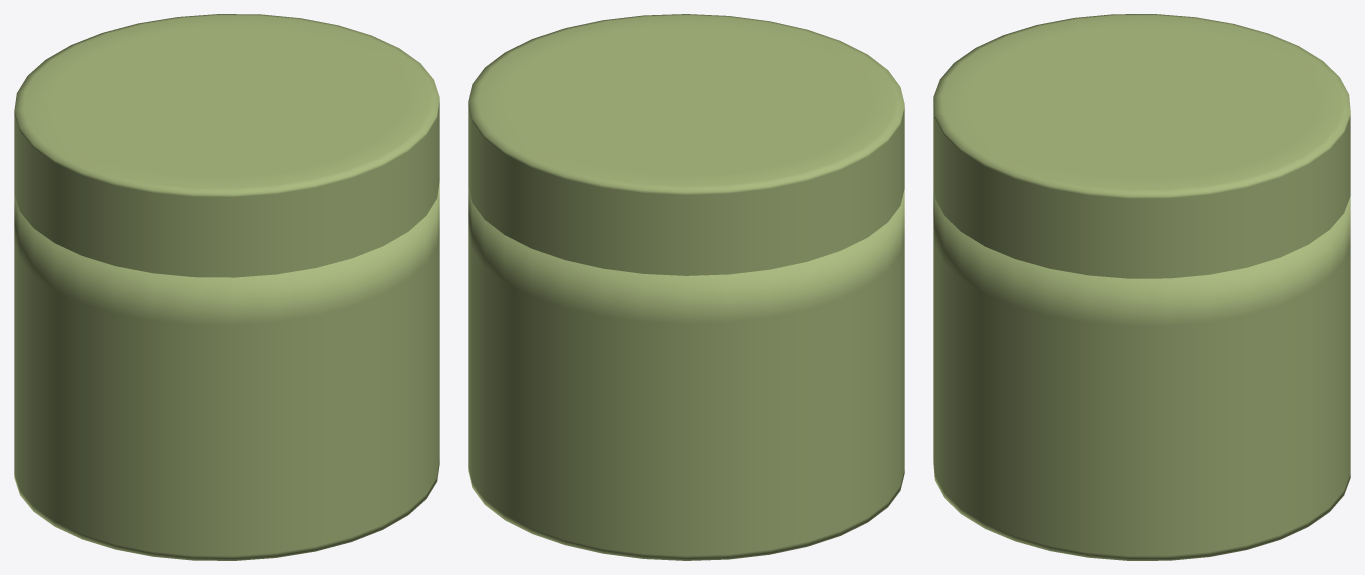
Rendered from 1-tier-pistage-none-none.glb.
3 views of the same model, side by side, from view 1: azimuth 30°, elevation 25°; view 2: azimuth 150°, elevation 25°; view 3: azimuth 270°, elevation 25° (orthographic).
Visible parts, largest first — view 1: Cylinder.019; view 2: Cylinder.019; view 3: Cylinder.019.
Boxes of the visible parts, box(x1,y1,x2,y2) form: Cylinder.019: box(14, 14, 439, 560); Cylinder.019: box(468, 14, 904, 560); Cylinder.019: box(933, 14, 1350, 560).
Bounding box in the file's own units: 2.63 × 2.48 × 2.55.
